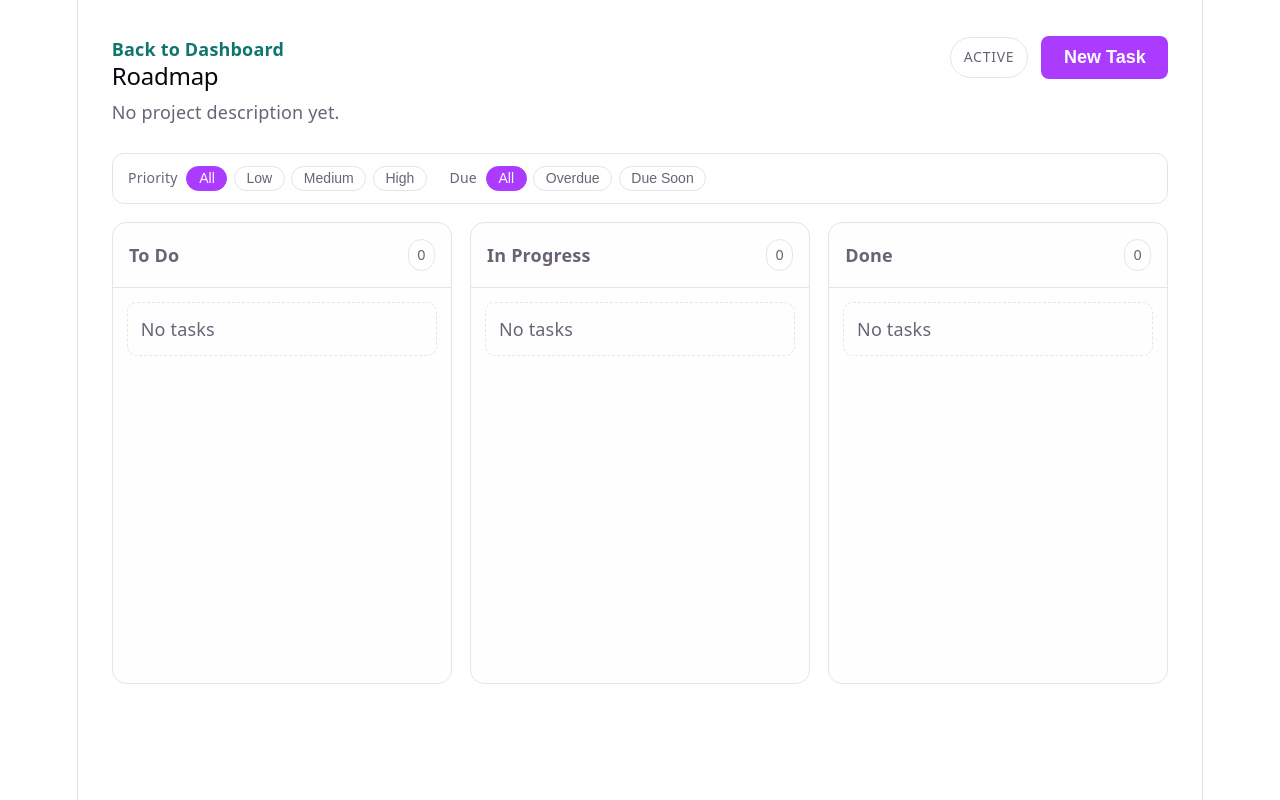
Scenario: ProjectDetails › closes task creation modal when cancel button is clicked
The width and height of the screenshot is (1280, 800).
Expected: the heading "Roadmap" is shown, [112,59,218,92]
Click the button "New Task" at (1105, 57), box [1041,36,1168,79]
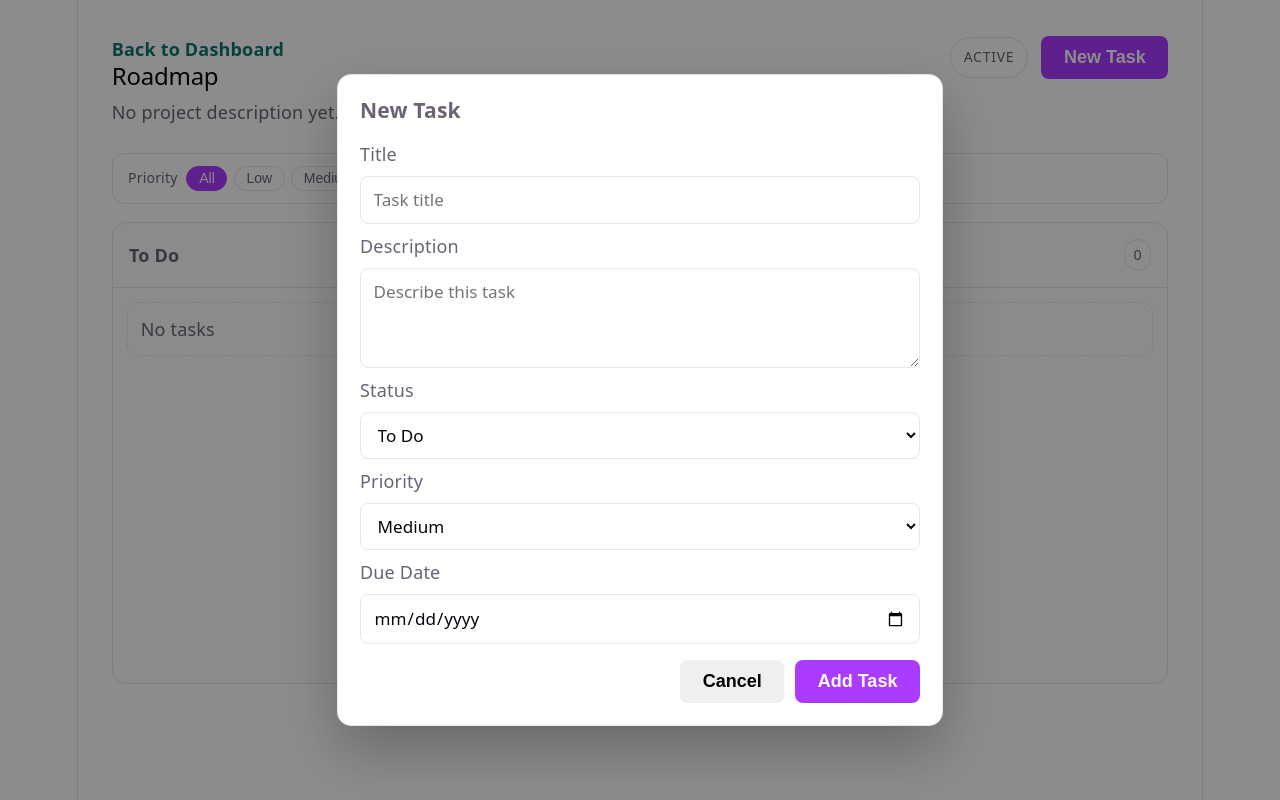
Expected: the dialog is shown, [337,74,943,726]
Click the button "Cancel" at (732, 682), box [680,660,784,703]
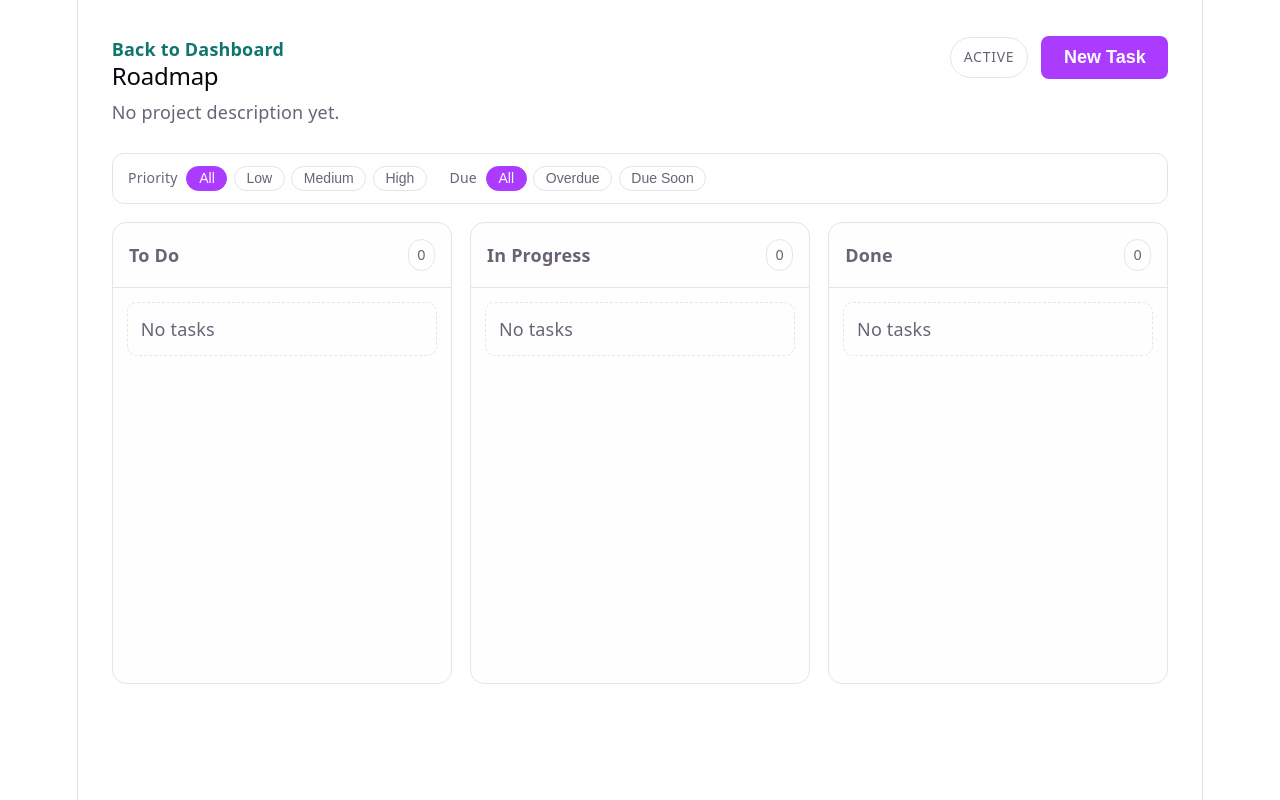
Expected: the dialog is gone
